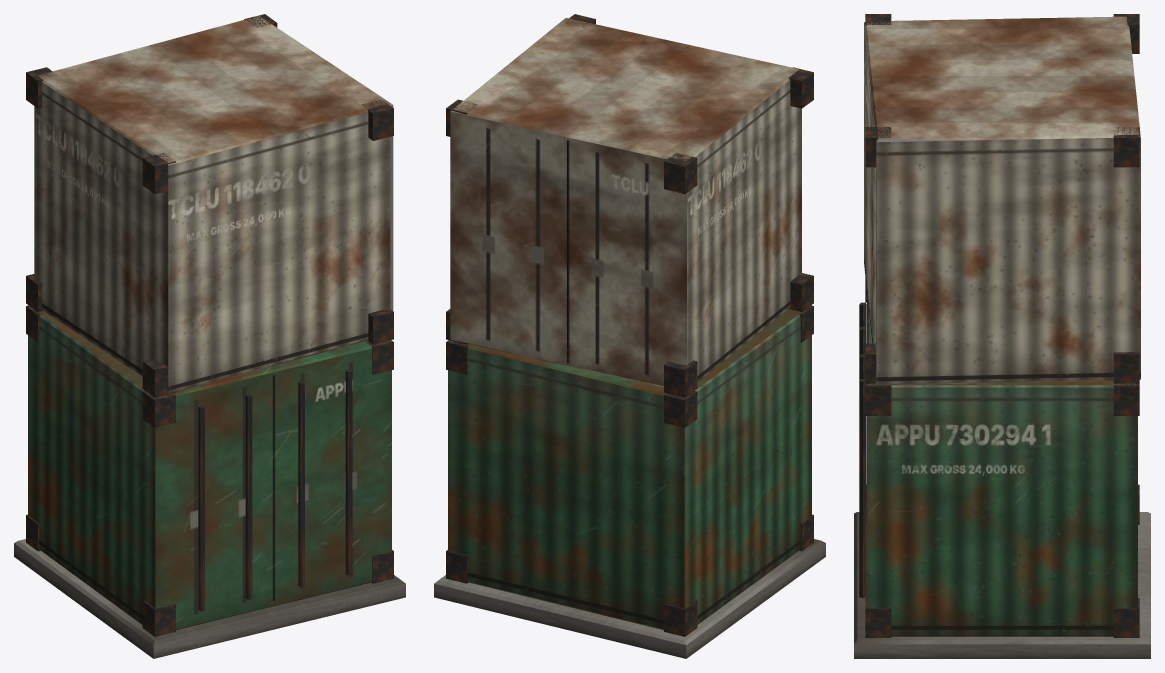
File: prop_pillar_container_b.glb
3 renders of one model, left to right at view 1: azimuth 30°, elevation 25°; view 2: azimuth 150°, elevation 25°; view 3: azimuth 270°, elevation 25°, orthographic. The views are drawn at different scales.
Visible parts, largest first — view 1: prop_pillar_container_b_body; view 2: prop_pillar_container_b_body; view 3: prop_pillar_container_b_body.
Boxes of the visible parts, box(x1,y1,x2,y2) form: prop_pillar_container_b_body: box(14, 14, 405, 658); prop_pillar_container_b_body: box(434, 14, 825, 658); prop_pillar_container_b_body: box(854, 14, 1150, 658).
Size of the model in its own units: 0.96 by 1.77 by 0.92.
1 material, 1 textured.
